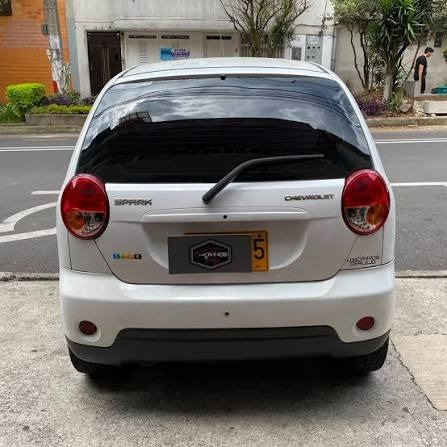car: (47, 46, 394, 387)
